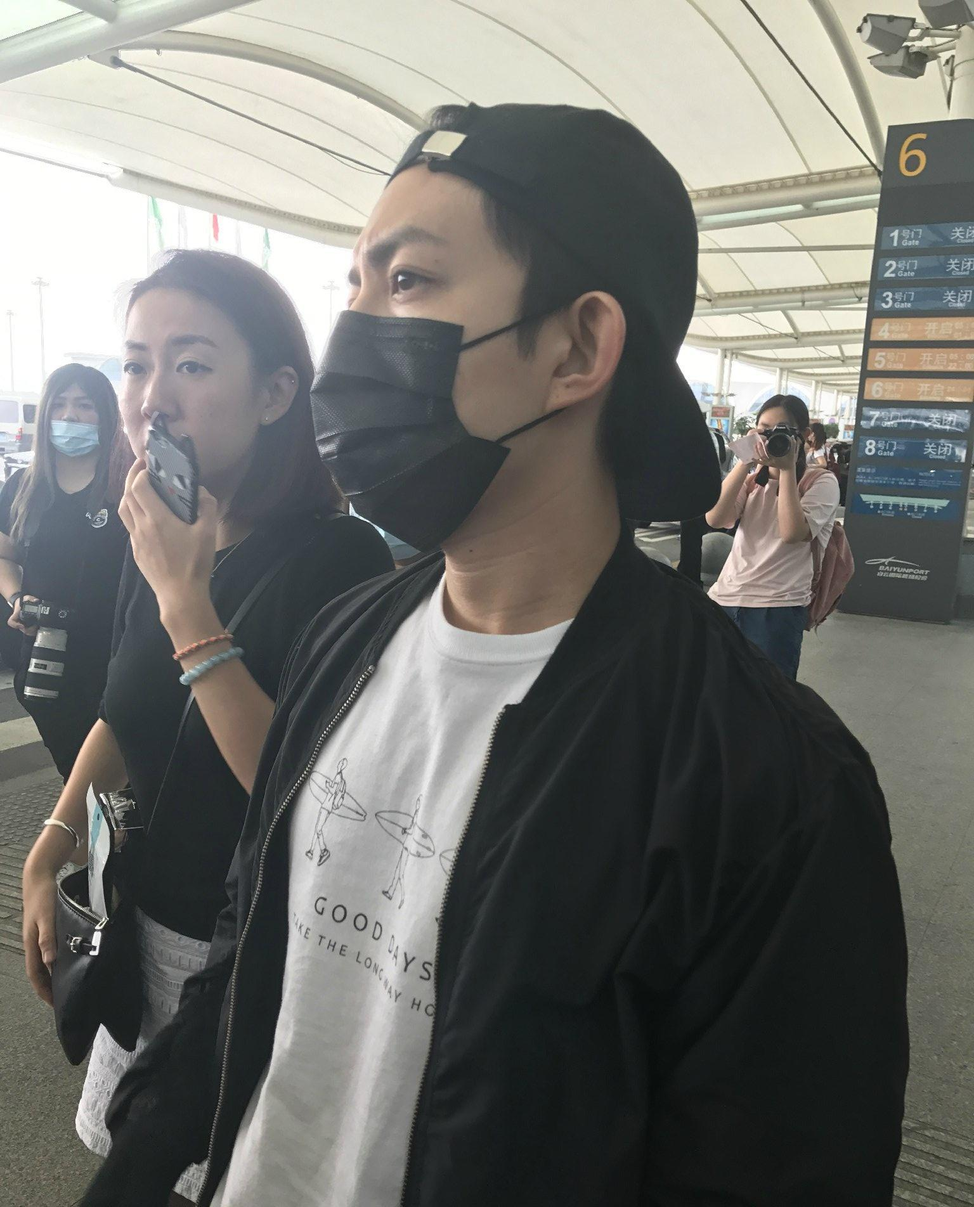NONE: (108, 324, 271, 486), (752, 416, 804, 465)
OK: (312, 215, 610, 513)
WRONG: (40, 391, 110, 461)
